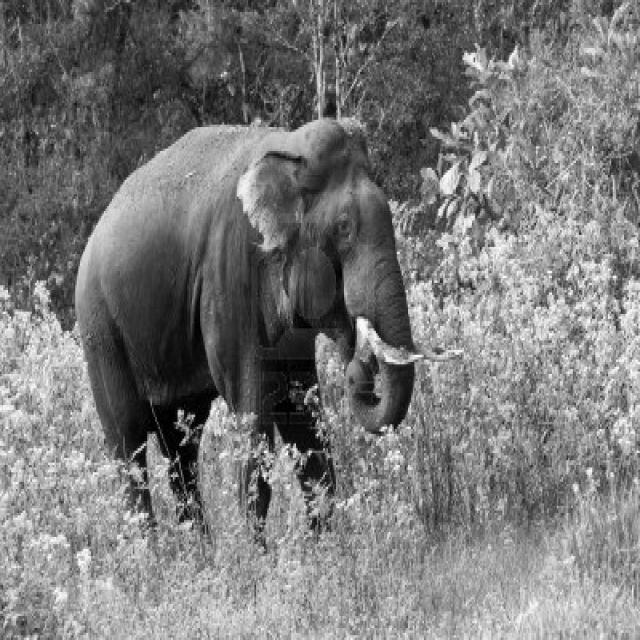Elephant: (73, 115, 460, 522)
